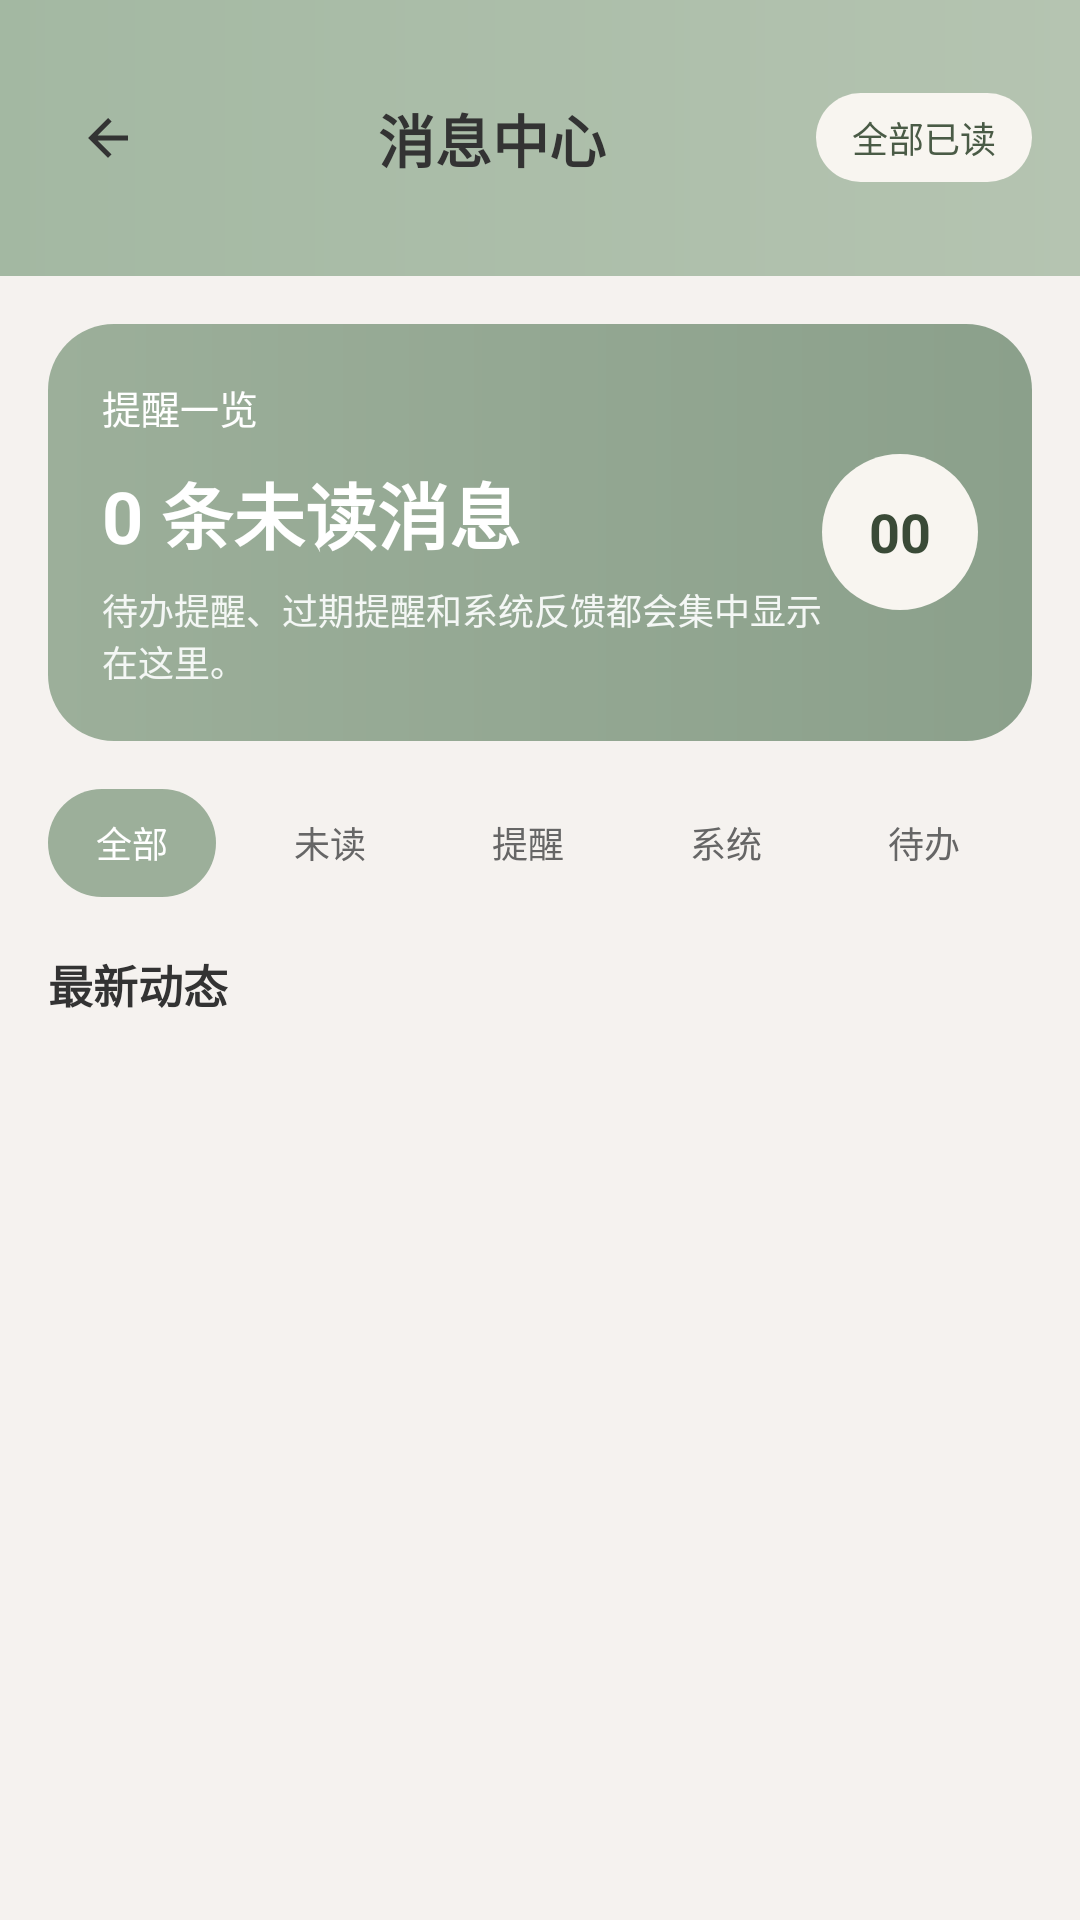

Icon bounding boxes for this 1080x1920 phone screenshot, format (x1, y1, x2, y2):
back: (88, 118, 128, 158)
